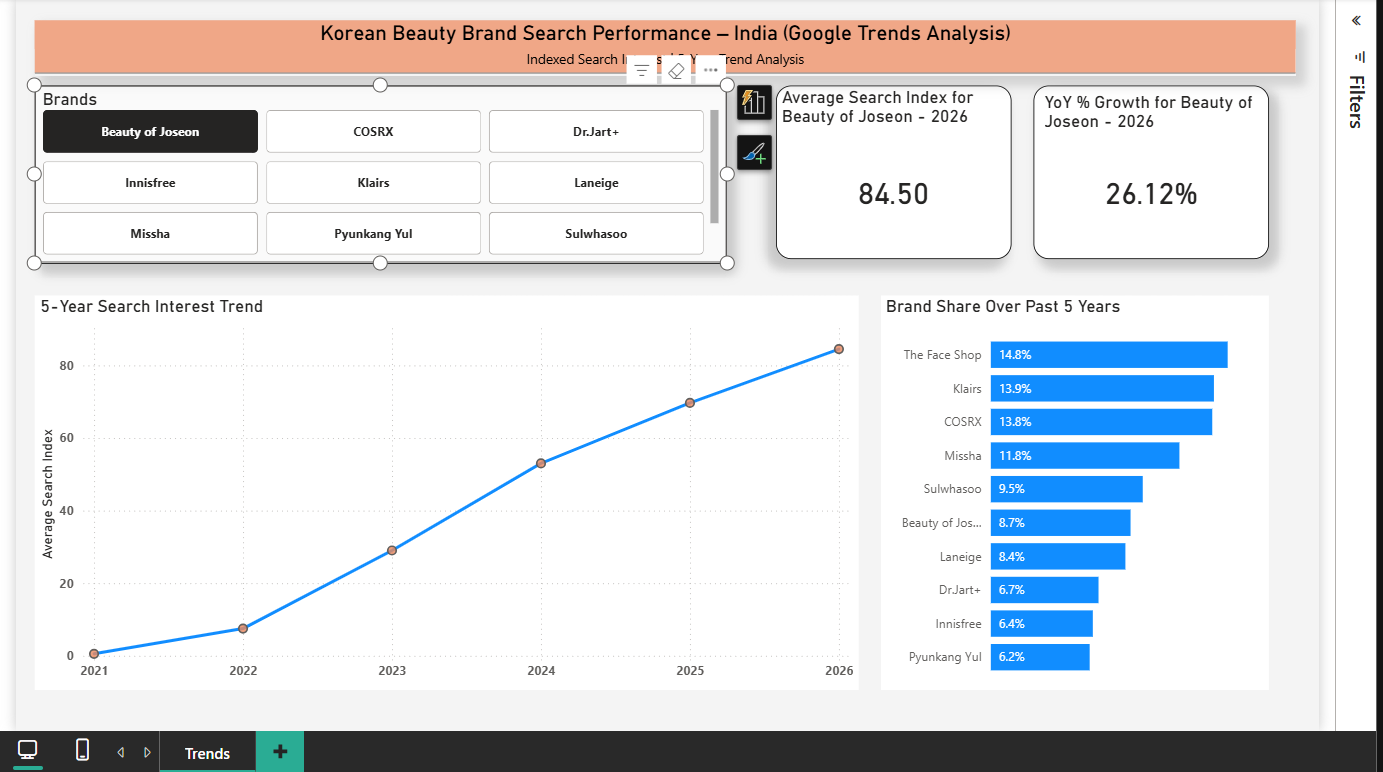

The page's visual inventory and layout, read from the dashboard file:
{"tool":"powerbi","page":{"name":"Trends","canvas":[1280,720],"ordinal":0},"visuals":[{"type":"lineChart","title":"5-Year Search Interest Trend","fields":{"Y":["TRENDS.Average Search Index"],"Category":["DateTable.Year","DateTable.Month Number"]},"box":[18.7,292.3,808.6,386.9],"z":0},{"type":"advancedSlicerVisual","title":"Brands","fields":{"Values":["TRENDS.Brand"]},"box":[18.7,85.6,679.2,175],"z":1000},{"type":"card","fields":{"Values":["TRENDS.Latest Year YoY %"]},"box":[998.9,85.8,231,170.4],"z":2000},{"type":"card","fields":{"Values":["TRENDS.Latest Year Avg Search Index"]},"box":[746.4,85.8,231.4,170.4],"z":3000},{"type":"clusteredBarChart","title":"Brand  Share  Over Past 5 Years","fields":{"Category":["TRENDS.Brand"],"Y":["TRENDS.Brand % Share"]},"box":[849.6,292.3,380.7,386.9],"z":4000},{"type":"actionButton","title":"Korean Beauty Brand Search Performance – India (Google Trends Analysis)","box":[18.7,22.4,1237.7,54.7],"z":5000}]}

Visuals, with their boxes in screenshot pixels (x1, y1, x2, y2):
"5-Year Search Interest Trend" lineChart: 46,306,931,729
"Brands" advancedSlicerVisual: 46,79,789,271
card - TRENDS.Latest Year YoY %: 1118,79,1371,266
card - TRENDS.Latest Year Avg Search Index: 842,79,1095,266
"Brand  Share  Over Past 5 Years" clusteredBarChart: 955,306,1372,729
"Korean Beauty Brand Search Performance – India (Google Trends Analysis)" actionButton: 46,10,1382,70
